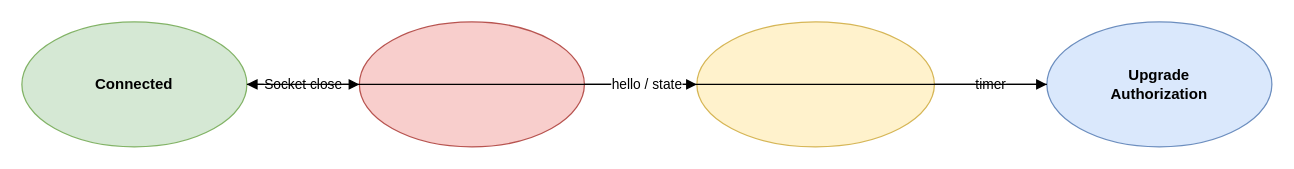
This 1294x169 diagram has some shape labels left out. Each missing label, with the box of its shape:
Backoff 1 2 4 8 10秒: (696, 21, 934, 147)
Disconnected: (358, 21, 584, 147)
